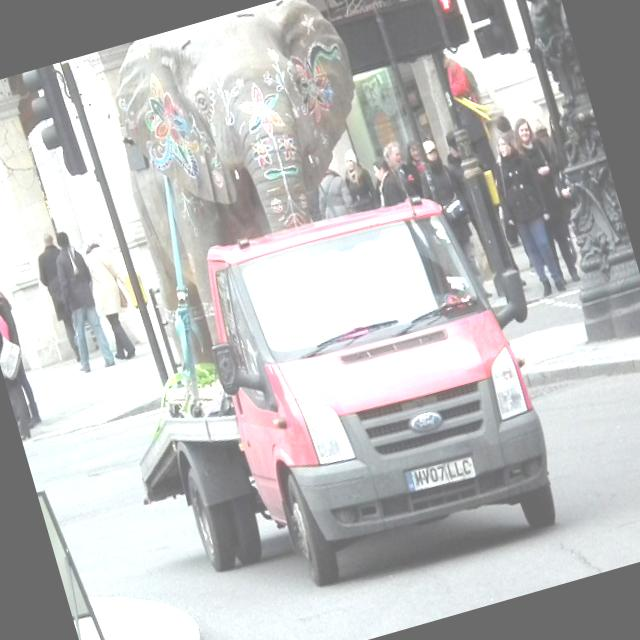Vehicle: (79, 166, 572, 633)
